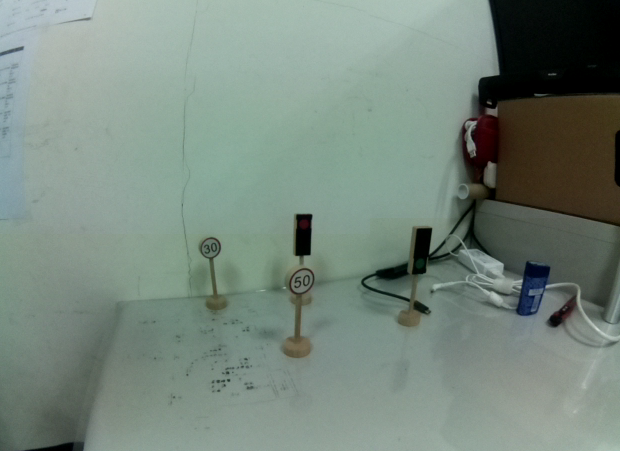Green: (406, 222, 435, 281)
Red: (289, 209, 315, 260)
Speed30: (198, 236, 223, 263)
Speed50: (283, 264, 316, 297)
